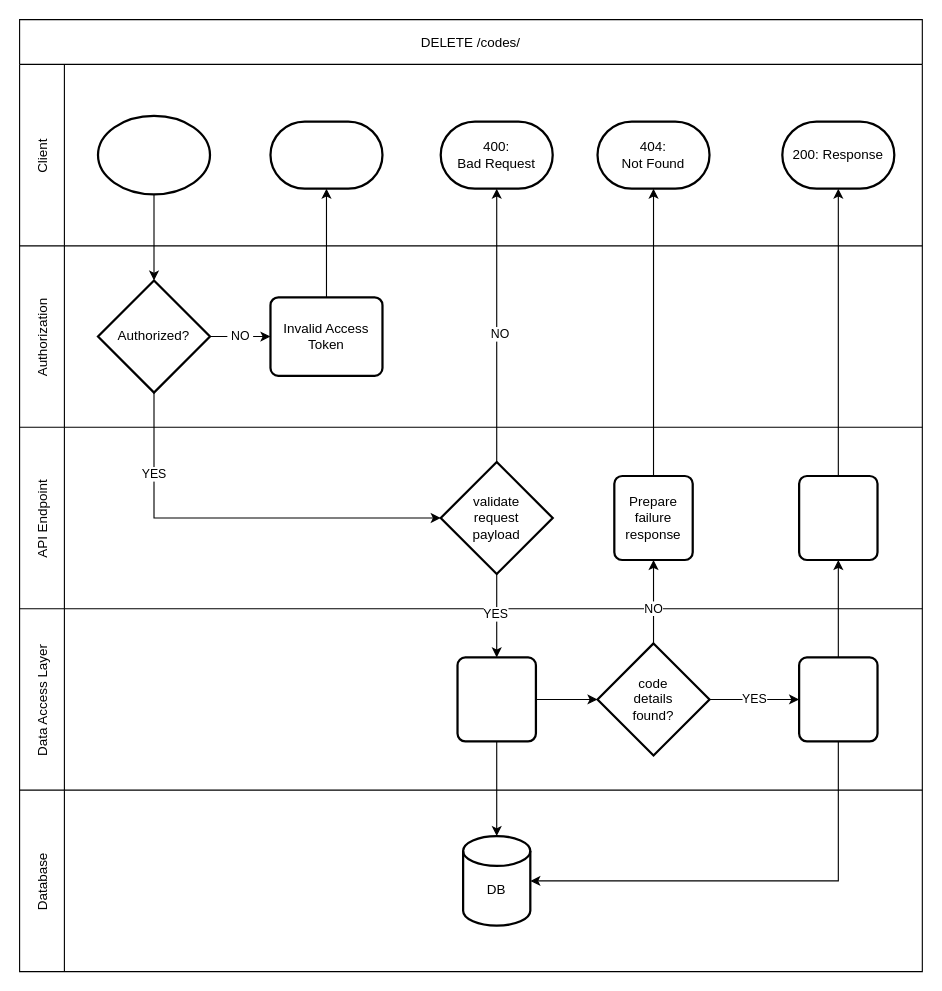
The diagram is 942 pixels wide and 991 high, and some of its shapes have lost their labels. Each missing label, with the centre of its shape:
"401: Unauthorised" belongs at pixel 326 154.
"Prepare success response" belongs at pixel 837 517.
"Query Code Delete" belongs at pixel 837 699.
"Query Code Details" belongs at pixel 496 699.
"Request" belongs at pixel 153 154.
